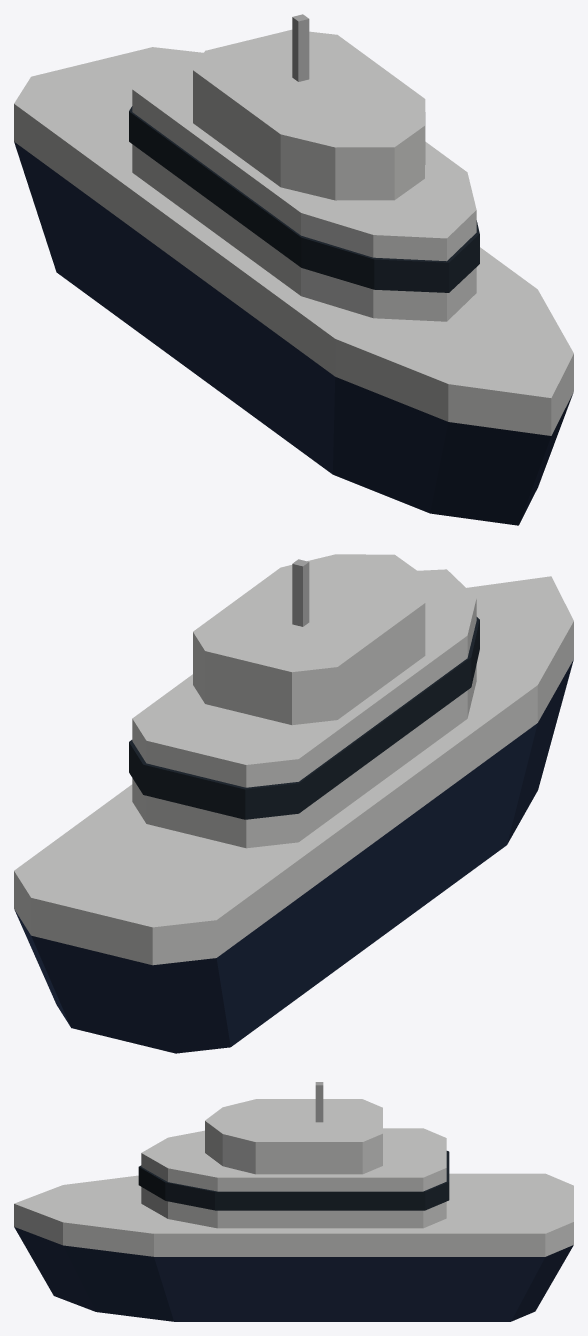
File: ship_pleasure.glb
3 renders of one model, top to bottom at view 1: azimuth 30°, elevation 25°; view 2: azimuth 150°, elevation 25°; view 3: azimuth 270°, elevation 25°, orthographic. The views are drawn at different scales.
Parts seen in each view (by area): view 1: ship_pleasure; view 2: ship_pleasure; view 3: ship_pleasure.
Part boxes in pixels (box(x1,y1,x2,y2)): ship_pleasure: box(14, 14, 573, 525); ship_pleasure: box(14, 554, 573, 1053); ship_pleasure: box(14, 1082, 573, 1321).
Bounding box in the file's own units: 5.6 × 9.2 × 22.
